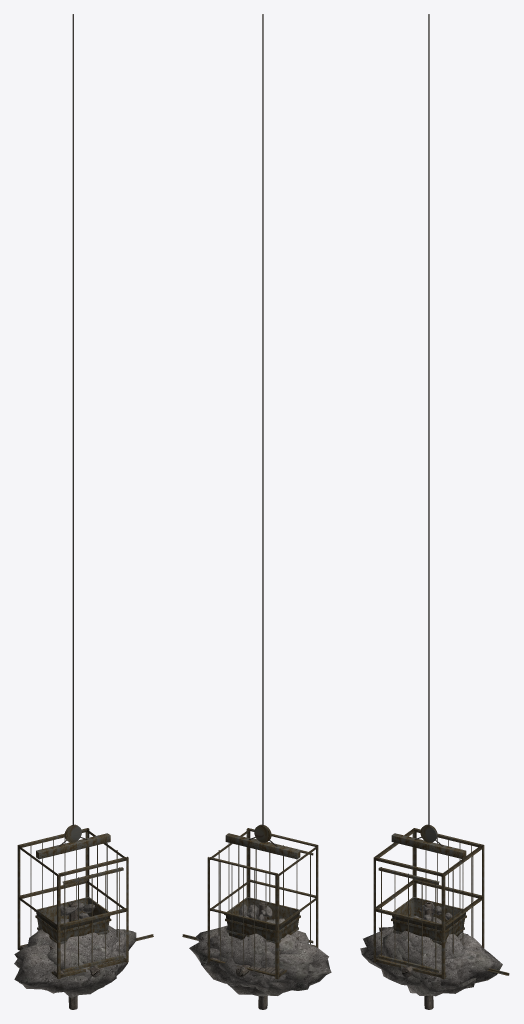
File: ll_props.glb
3 renders of one model, left to right at view 1: azimuth 30°, elevation 25°; view 2: azimuth 150°, elevation 25°; view 3: azimuth 330°, elevation 25°, orthographic.
Parts seen in each view (by area): view 1: LL_LiftCage, LL_RockC, LL_Cart, LL_RockA, LL_RockB, LL_LiftGate; view 2: LL_LiftCage, LL_RockC, LL_RockB, LL_Cart, LL_RockA, LL_LiftGate; view 3: LL_LiftCage, LL_RockC, LL_Cart, LL_RockB, LL_RockA, LL_LiftGate.
Boxes of the visible parts, left/top/right/bottom form: LL_LiftCage: left=17, top=14, right=128, bottom=979; LL_RockC: left=14, top=929, right=136, bottom=991; LL_Cart: left=34, top=896, right=111, bottom=949; LL_RockA: left=46, top=932, right=116, bottom=997; LL_RockB: left=18, top=918, right=121, bottom=993; LL_LiftGate: left=62, top=867, right=123, bottom=972; LL_LiftCage: left=207, top=14, right=318, bottom=979; LL_RockC: left=189, top=925, right=331, bottom=990; LL_RockB: left=207, top=914, right=318, bottom=994; LL_Cart: left=224, top=897, right=301, bottom=953; LL_RockA: left=219, top=918, right=308, bottom=996; LL_LiftGate: left=253, top=838, right=313, bottom=944; LL_LiftCage: left=373, top=14, right=484, bottom=979; LL_RockC: left=360, top=927, right=502, bottom=989; LL_Cart: left=391, top=896, right=467, bottom=950; LL_RockB: left=370, top=915, right=484, bottom=990; LL_RockA: left=382, top=919, right=466, bottom=996; LL_LiftGate: left=378, top=867, right=439, bottom=972.
Size of the model in its own units: 3.6 by 23.75 by 2.
8 materials, 4 textured.
